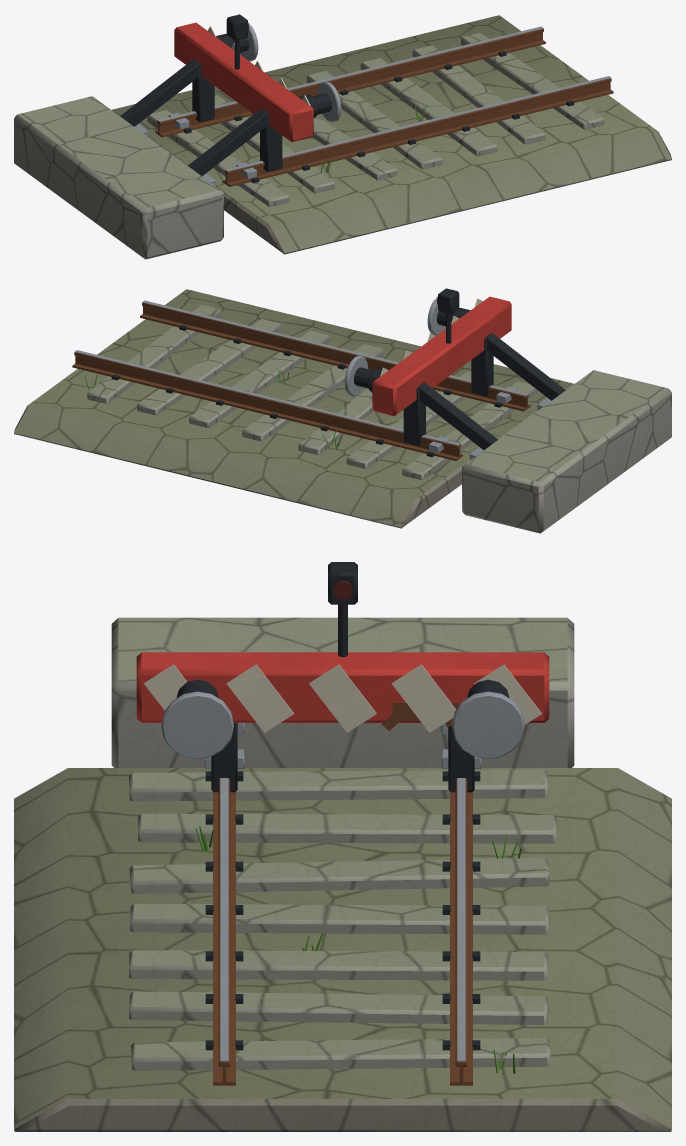
The model's file is rail_buffer.glb.
The picture shows the model from 3 angles, top to bottom: view 1: azimuth 30°, elevation 25°; view 2: azimuth 150°, elevation 25°; view 3: azimuth 270°, elevation 25°; orthographic projection. The views are drawn at different scales.
Visible parts, largest first — view 1: rail_buffer; view 2: rail_buffer; view 3: rail_buffer.
Part boxes in pixels (<box>): rail_buffer: <box>14,14,671,259</box>; rail_buffer: <box>14,288,671,533</box>; rail_buffer: <box>14,562,671,1131</box>.
Bounding box in the file's own units: 6.15 × 1.88 × 3.98.
Materials: 14 (14 with a texture image).
